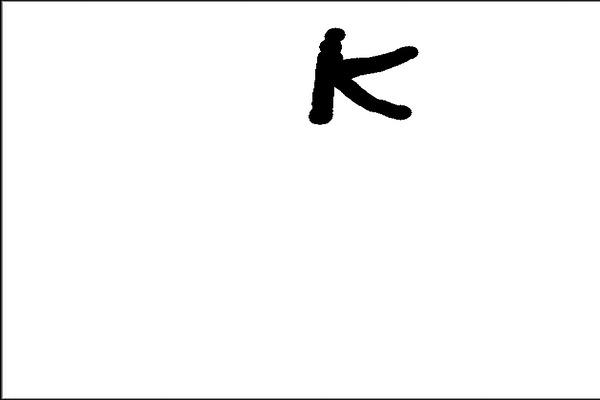K: (300, 19, 420, 134)
